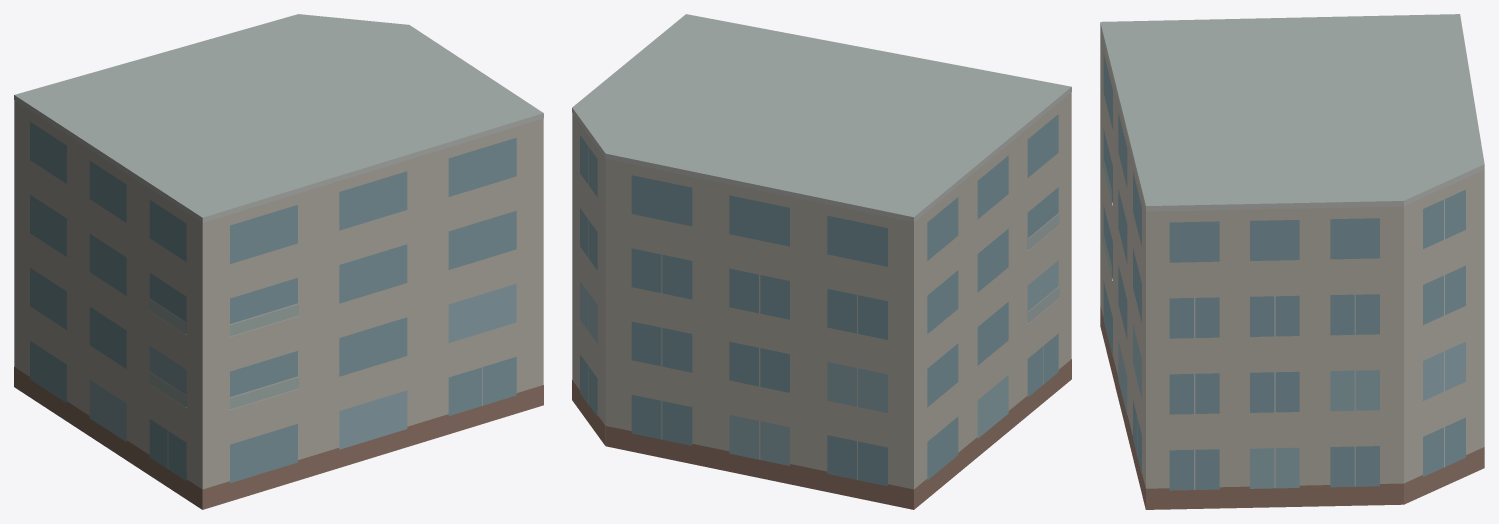
The model's file is survey-upis-32963714.glb.
The picture shows the model from 3 angles, left to right: view 1: azimuth 30°, elevation 25°; view 2: azimuth 150°, elevation 25°; view 3: azimuth 270°, elevation 25°; orthographic projection. The views are drawn at different scales.
Parts seen in each view (by area): view 1: survey-upis-32963714.tmp; view 2: survey-upis-32963714.tmp; view 3: survey-upis-32963714.tmp.
Part boxes in pixels (x1=…): survey-upis-32963714.tmp: x1=14, y1=14, x2=543, y2=509; survey-upis-32963714.tmp: x1=572, y1=14, x2=1071, y2=509; survey-upis-32963714.tmp: x1=1100, y1=14, x2=1484, y2=509.
Bounding box in the file's own units: 18.66 × 13.75 × 15.78.
